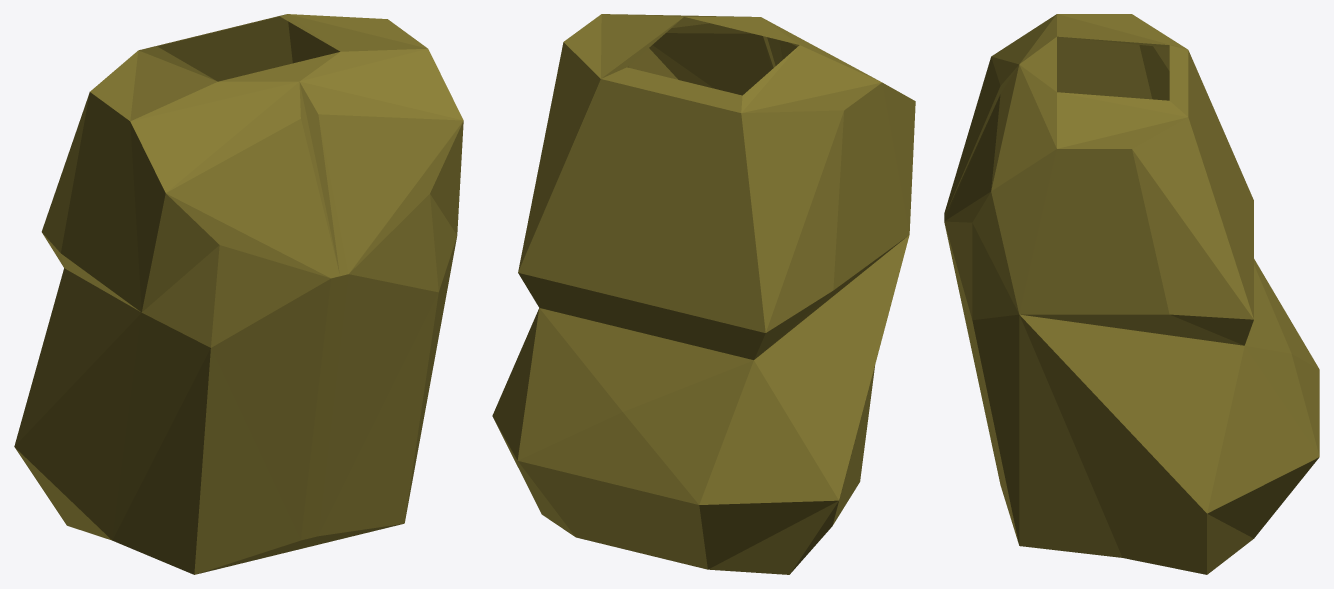
The model's file is npc_world_thug_2.obj.
The picture shows the model from 3 angles, left to right: view 1: azimuth 30°, elevation 25°; view 2: azimuth 150°, elevation 25°; view 3: azimuth 270°, elevation 25°; orthographic projection. The views are drawn at different scales.
Size of the model in its own units: 0.3281 by 0.4141 by 0.3125.
